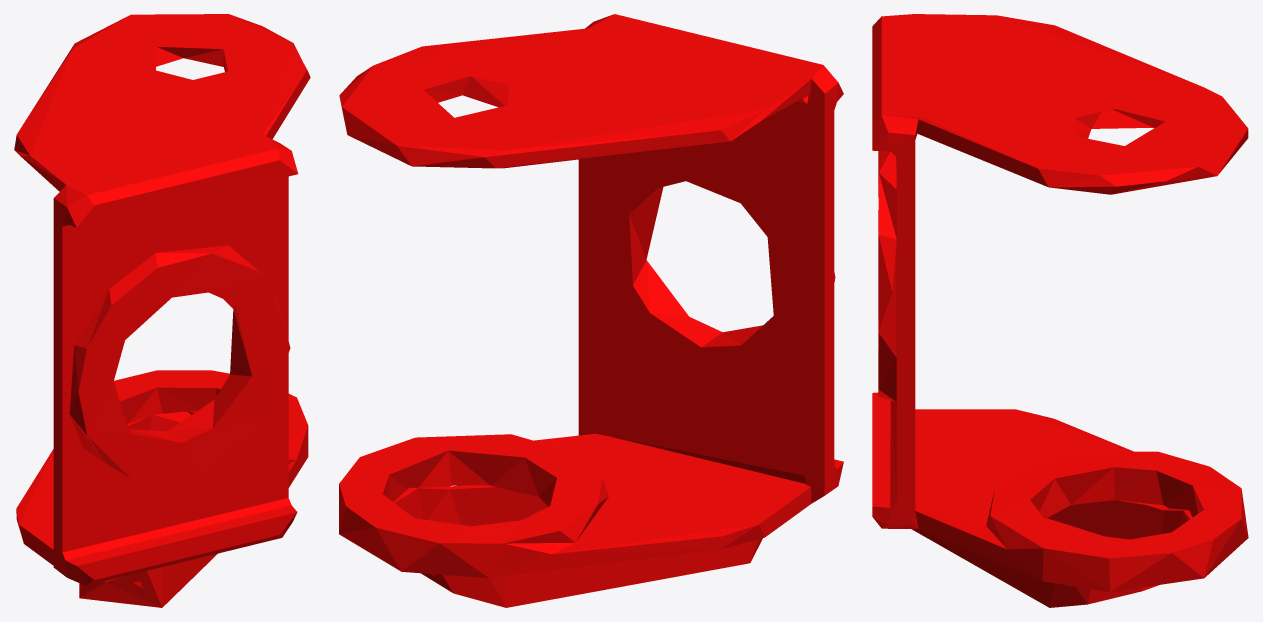
The model's file is warec-FR_HIP_Y-visual-0.dae.
3 renders of one model, left to right at view 1: azimuth 30°, elevation 25°; view 2: azimuth 150°, elevation 25°; view 3: azimuth 270°, elevation 25°, orthographic. The views are drawn at different scales.
Parts seen in each view (by area): view 1: root; view 2: root; view 3: root.
Boxes of the visible parts, x1,y1,x2,y2 form: root: (14,14,310,607); root: (339,14,843,607); root: (872,14,1248,607).
Size of the model in its own units: 0.1339 by 0.1665 by 0.123.
